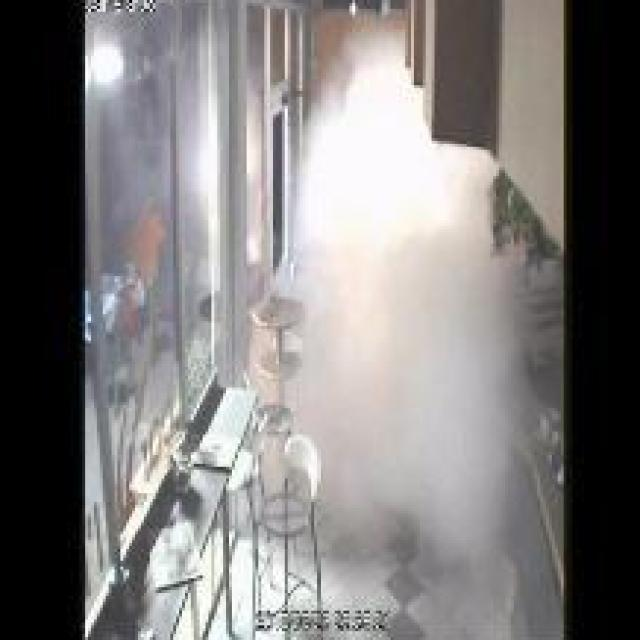fire: (302, 56, 528, 558)
